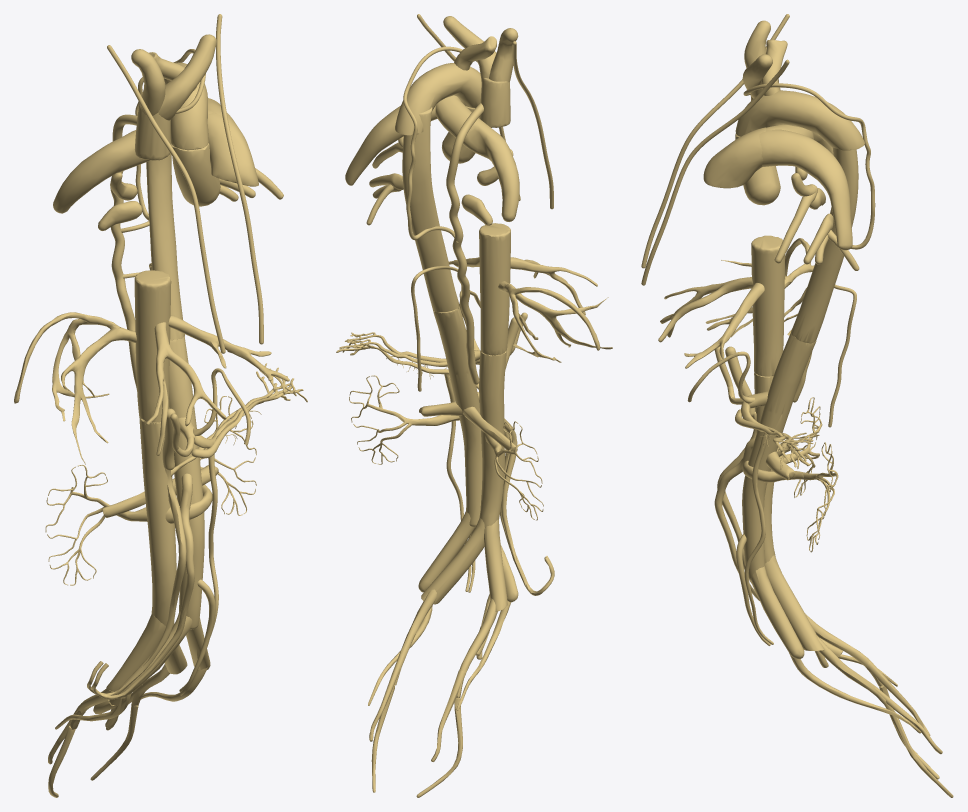
Rendered from trunk.glb.
3 views of the same model, side by side, from view 1: azimuth 30°, elevation 25°; view 2: azimuth 150°, elevation 25°; view 3: azimuth 270°, elevation 25° (orthographic). The views are drawn at different scales.
Parts seen in each view (by area): view 1: bp3d_FMA10951_FJ3659, bp3d_FMA10951_FJ3441, bp3d_FMA3789_FJ1932, bp3d_FMA14338_FJ2416, bp3d_FMA87217_FJ1931, bp3d_FMA50872_FJ3019, bp3d_FMA8612_FJ2966, bp3d_FMA14340_FJ2414, bp3d_FMA4761_FJ3482, bp3d_FMA14332_FJ3647, bp3d_FMA3736_FJ3413, bp3d_FMA3768_FJ3411 (+24 smaller); view 2: bp3d_FMA87217_FJ1931, bp3d_FMA3789_FJ1932, bp3d_FMA10951_FJ3441, bp3d_FMA10951_FJ3659, bp3d_FMA50872_FJ3019, bp3d_FMA3768_FJ3411, bp3d_FMA4838_FJ3416, bp3d_FMA14338_FJ2416, bp3d_FMA50873_FJ2924, bp3d_FMA21388_FJ3465, bp3d_FMA21387_FJ3566, bp3d_FMA4720_FJ3645 (+21 smaller); view 3: bp3d_FMA3789_FJ1932, bp3d_FMA50873_FJ2924, bp3d_FMA10951_FJ3441, bp3d_FMA3768_FJ3411, bp3d_FMA87217_FJ1931, bp3d_FMA8612_FJ2966, bp3d_FMA21388_FJ3465, bp3d_FMA14766_FJ3464, bp3d_FMA14340_FJ2414, bp3d_FMA4068_FJ1972, bp3d_FMA3969_FJ1937, bp3d_FMA5011_FJ1981 (+21 smaller).
Boxes of the visible parts, x1,y1,x2,y2 form: bp3d_FMA10951_FJ3659: [139, 417, 176, 625]; bp3d_FMA10951_FJ3441: [134, 270, 171, 422]; bp3d_FMA3789_FJ1932: [169, 336, 204, 629]; bp3d_FMA14338_FJ2416: [14, 312, 136, 464]; bp3d_FMA87217_FJ1931: [146, 153, 184, 340]; bp3d_FMA50872_FJ3019: [53, 109, 212, 213]; bp3d_FMA8612_FJ2966: [207, 113, 258, 186]; bp3d_FMA14340_FJ2414: [145, 322, 226, 455]; bp3d_FMA4761_FJ3482: [158, 34, 216, 120]; bp3d_FMA14332_FJ3647: [87, 469, 186, 695]; bp3d_FMA3736_FJ3413: [171, 143, 220, 206]; bp3d_FMA3768_FJ3411: [164, 62, 208, 150]; bp3d_FMA87217_FJ1931: [402, 107, 459, 312]; bp3d_FMA3789_FJ1932: [433, 306, 482, 526]; bp3d_FMA10951_FJ3441: [479, 223, 510, 355]; bp3d_FMA10951_FJ3659: [479, 350, 506, 527]; bp3d_FMA50872_FJ3019: [435, 95, 519, 221]; bp3d_FMA3768_FJ3411: [395, 63, 481, 135]; bp3d_FMA4838_FJ3416: [446, 102, 483, 384]; bp3d_FMA14338_FJ2416: [498, 281, 612, 362]; bp3d_FMA50873_FJ2924: [345, 105, 437, 185]; bp3d_FMA21388_FJ3465: [421, 518, 484, 604]; bp3d_FMA21387_FJ3566: [484, 519, 507, 611]; bp3d_FMA4720_FJ3645: [479, 78, 510, 127]; bp3d_FMA3789_FJ1932: [742, 333, 816, 580]; bp3d_FMA50873_FJ2924: [759, 129, 852, 250]; bp3d_FMA10951_FJ3441: [751, 235, 785, 376]; bp3d_FMA3768_FJ3411: [735, 90, 864, 150]; bp3d_FMA87217_FJ1931: [791, 147, 858, 343]; bp3d_FMA8612_FJ2966: [703, 127, 765, 188]; bp3d_FMA21388_FJ3465: [765, 555, 824, 651]; bp3d_FMA14766_FJ3464: [750, 566, 804, 659]; bp3d_FMA14340_FJ2414: [658, 277, 752, 342]; bp3d_FMA4068_FJ1972: [641, 59, 789, 285]; bp3d_FMA3969_FJ1937: [641, 14, 789, 268]; bp3d_FMA5011_FJ1981: [743, 83, 875, 249].
Bounding box in the file's own units: 0.2087 × 0.5634 × 0.2109.
